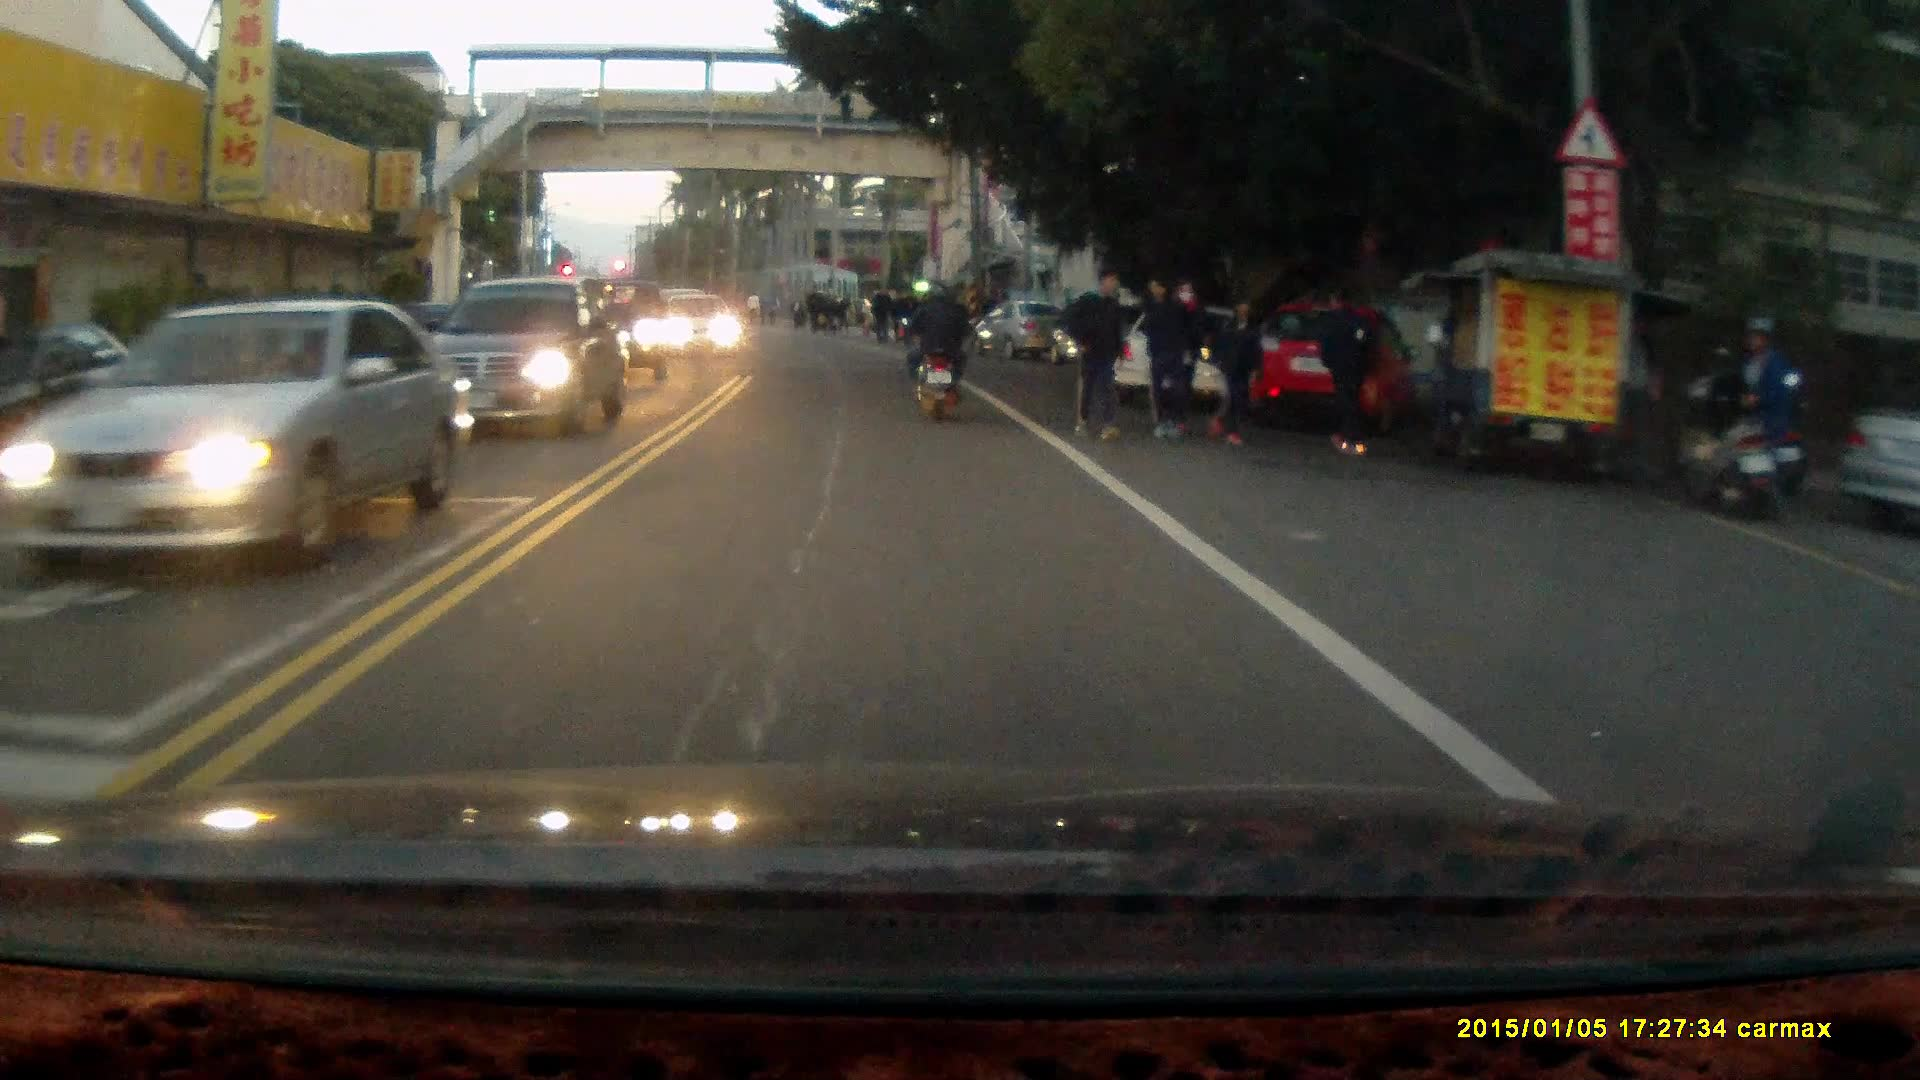pedestrian: (1062, 261, 1132, 445), (1745, 297, 1807, 494), (1311, 286, 1379, 453), (1207, 292, 1270, 450), (1139, 275, 1193, 444)
rider: (899, 276, 973, 426)
vehicle: (25, 298, 465, 572), (431, 276, 627, 435), (1236, 296, 1413, 428), (1107, 301, 1300, 420), (661, 296, 749, 363), (981, 302, 1063, 363)
